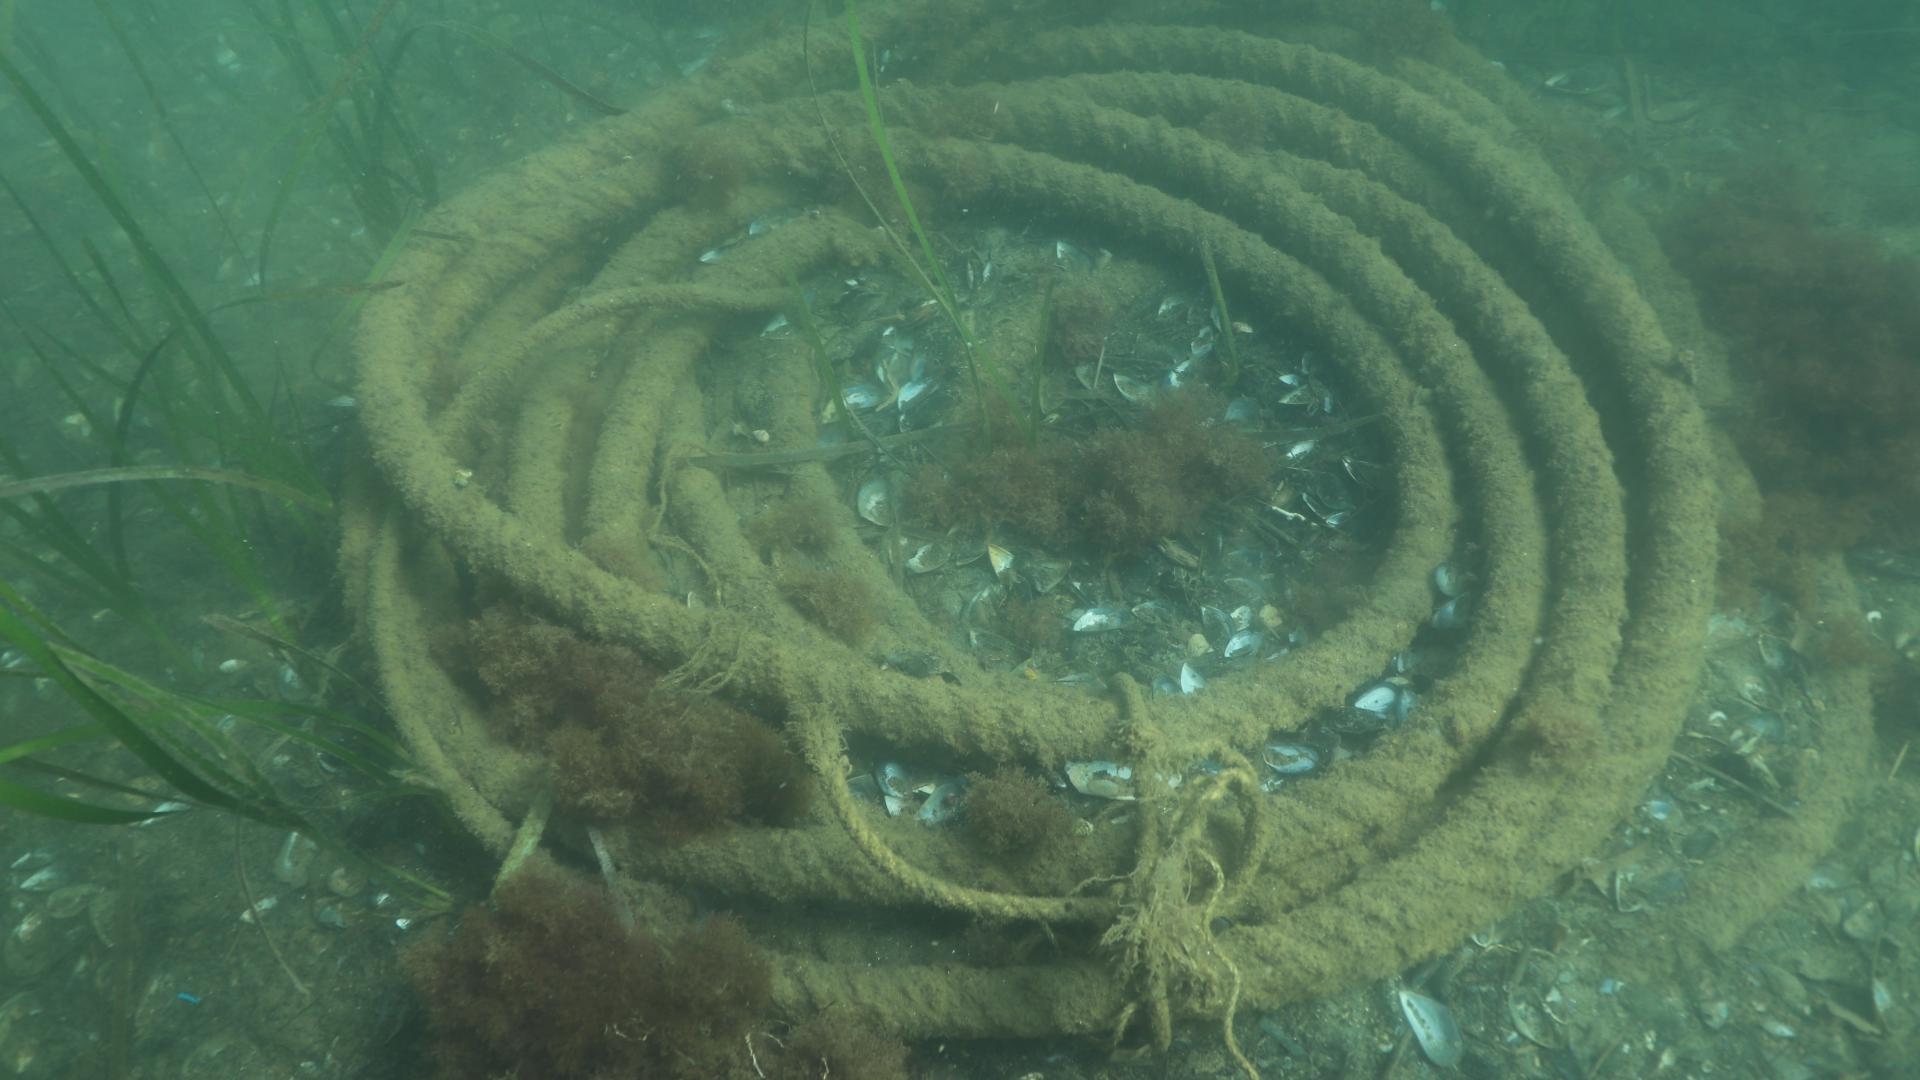bundle of ropes: (336, 0, 1876, 1040)
